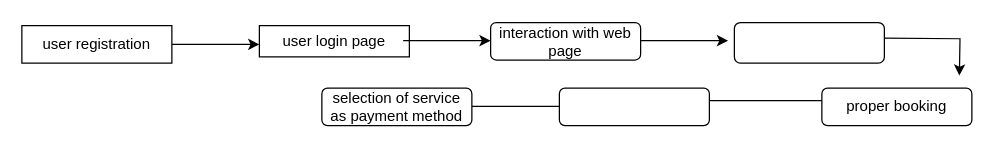
The diagram is 994 pixels wide and 148 high, and some of its shapes have lost their labels. Each missing label, with the box of its shape:
payment login page: (558, 87, 709, 126)
servie selection: (733, 21, 884, 63)
